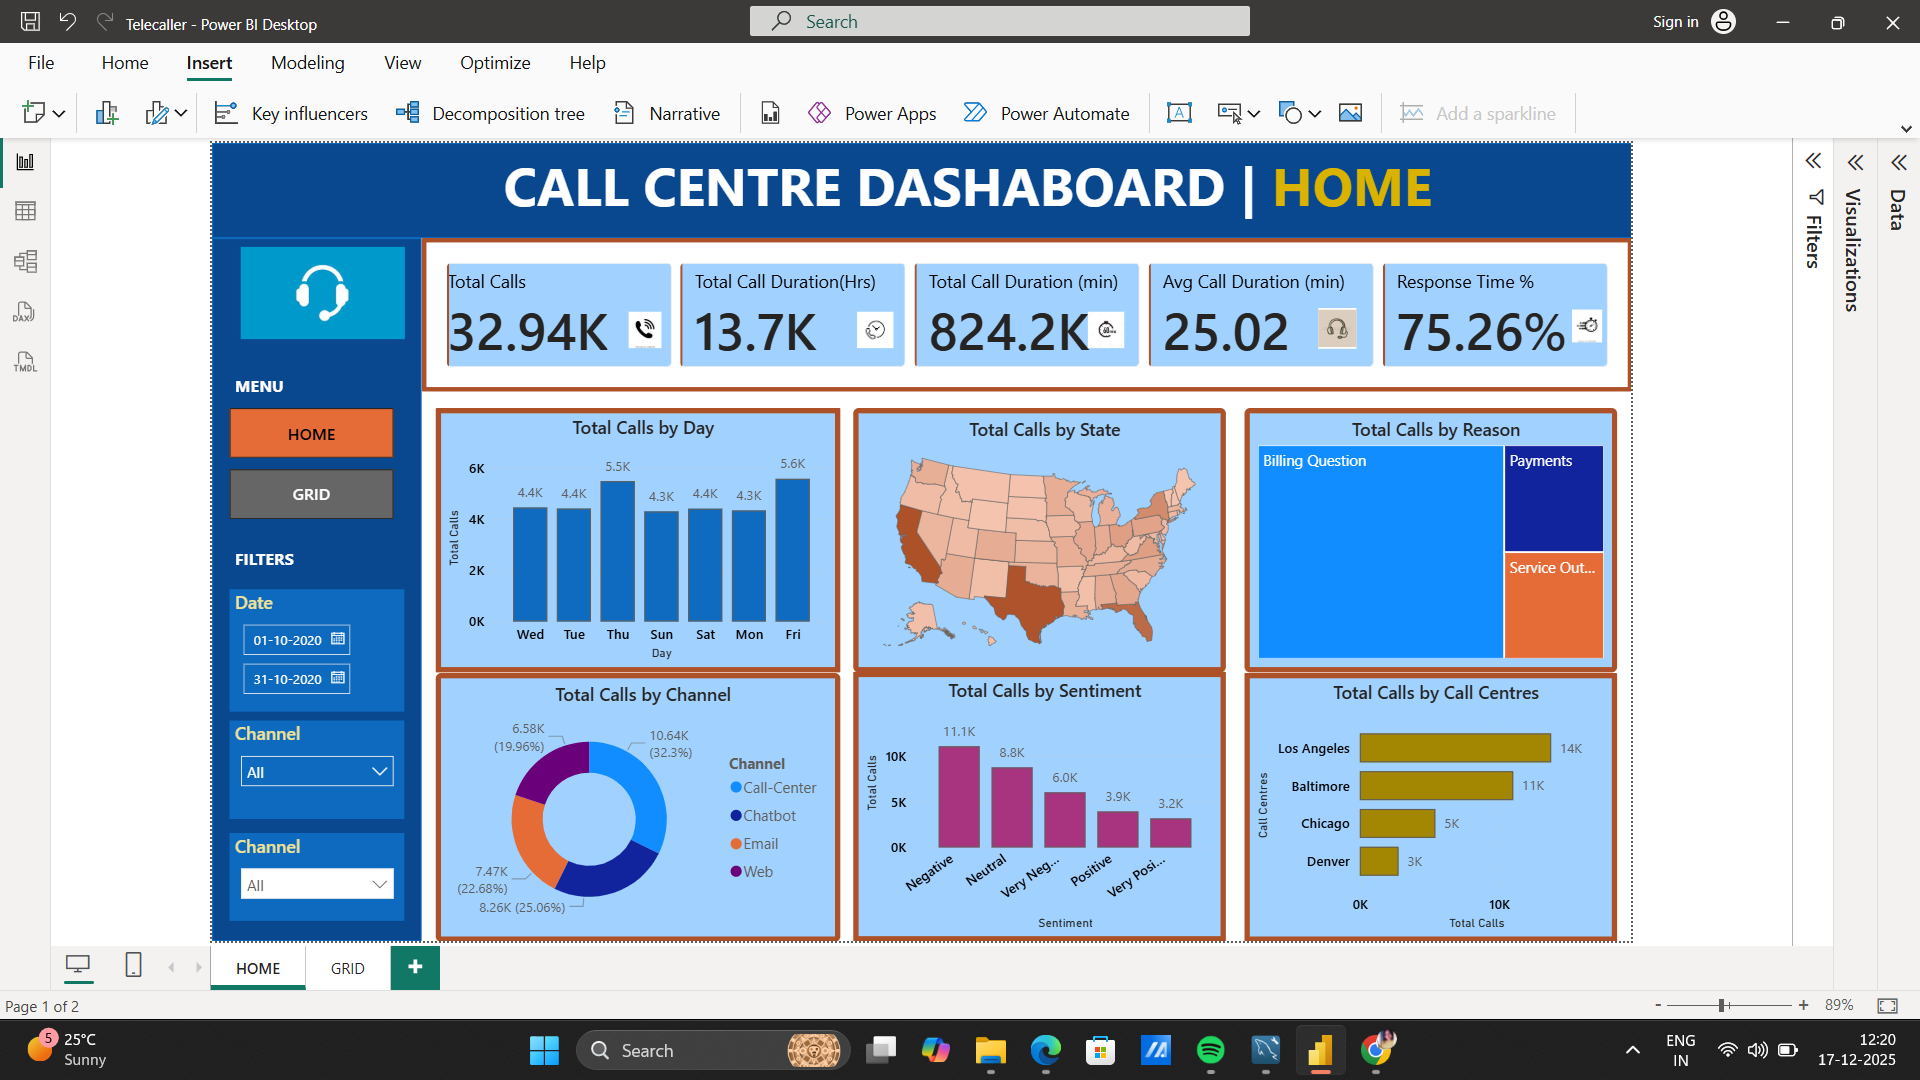

The page's visual inventory and layout, read from the dashboard file:
{"tool":"powerbi","page":{"name":"HOME","canvas":[1280,720],"ordinal":0},"visuals":[{"type":"shape","box":[0,85.7,189.1,634],"z":0},{"type":"shape","box":[0,0,1280.3,85.7],"z":1000},{"type":"cardVisual","fields":{"Data":["Call Center_Call Center.Total Calls","Call Center_Call Center.Total Call Duration(Hrs)","Call Center_Call Center.Total Call Duration (min)","Call Center_Call Center.Avg Call Duration (min)","Call Center_Call Center.Response Time %"]},"box":[189.1,85.7,1091.2,138.8],"z":2000},{"type":"columnChart","fields":{"Category":["Date Table.Day"],"Y":["Call Center_Call Center.Total Calls"]},"box":[201.4,239.5,364.6,238.1],"z":3000},{"type":"textbox","box":[258.5,0,923.8,85.7],"z":4000},{"type":"shapeMap","fields":{"Category":["Call Center_Call Center.State"],"Value":["Call Center_Call Center.Total Calls"]},"box":[578.2,239.5,336.1,238.1],"z":5000},{"type":"treemap","fields":{"Group":["Call Center_Call Center.Reason"],"Values":["Call Center_Call Center.Total Calls"]},"box":[930.6,239.5,336.1,238.1],"z":6000},{"type":"donutChart","fields":{"Category":["Call Center_Call Center.Channel"],"Y":["Call Center_Call Center.Total Calls"]},"box":[201.4,477.6,364.6,242.2],"z":7000},{"type":"columnChart","fields":{"Category":["Call Center_Call Center.Sentiment"],"Y":["Call Center_Call Center.Total Calls"]},"box":[578,477,336,243],"z":8000},{"type":"barChart","fields":{"Category":["Call Center_Call Center.Call-Centres City"],"Y":["Call Center_Call Center.Total Calls"]},"box":[930.6,477.6,336.1,242.2],"z":9000},{"type":"slicer","title":"Date","fields":{"Values":["Date Table.Date"]},"box":[16.3,402.7,157.8,110.2],"z":10000},{"type":"slicer","title":"Channel","fields":{"Values":["Call Center_Call Center.Channel"]},"box":[16.3,521.1,157.8,88.4],"z":11000},{"type":"slicer","title":"Channel","fields":{"Values":["Call Center_Call Center.City"]},"box":[16.3,621.8,157.8,78.9],"z":12000},{"type":"image","box":[302,152.4,176.9,32.7],"z":13000},{"type":"image","box":[537.4,152.4,121.1,32.7],"z":13001},{"type":"image","box":[789.1,152.4,34,32.7],"z":13002},{"type":"image","box":[997.3,148.3,34,36.7],"z":13003},{"type":"image","box":[1225.9,145.6,27.2,39.5],"z":13004},{"type":"image","box":[25.9,85.7,148.3,99.3],"z":13005},{"type":"pageNavigator","box":[16.3,239.5,148.3,100.7],"z":13006},{"type":"textbox","box":[16.3,204.1,63.9,35.4],"z":13007},{"type":"textbox","box":[16.3,359.2,78.9,40.8],"z":13008}]}

Visuals, with their boxes on the page's 1280x720 design canvas (x1, y1, x2, y2). These are canvas units, not pixel positions in the 1920x1080 screenshot, which may show the page scaled, cropped or inside an application window:
shape: bbox=(0, 86, 189, 720)
shape: bbox=(0, 0, 1280, 86)
cardVisual - Call Center_Call Center.Total Calls x Call Center_Call Center.Total Call Duration(Hrs): bbox=(189, 86, 1280, 224)
columnChart - Date Table.Day x Call Center_Call Center.Total Calls: bbox=(201, 240, 566, 478)
textbox: bbox=(258, 0, 1182, 86)
shapeMap - Call Center_Call Center.State x Call Center_Call Center.Total Calls: bbox=(578, 240, 914, 478)
treemap - Call Center_Call Center.Reason x Call Center_Call Center.Total Calls: bbox=(931, 240, 1267, 478)
donutChart - Call Center_Call Center.Channel x Call Center_Call Center.Total Calls: bbox=(201, 478, 566, 720)
columnChart - Call Center_Call Center.Sentiment x Call Center_Call Center.Total Calls: bbox=(578, 477, 914, 720)
barChart - Call Center_Call Center.Call-Centres City x Call Center_Call Center.Total Calls: bbox=(931, 478, 1267, 720)
"Date" slicer: bbox=(16, 403, 174, 513)
"Channel" slicer: bbox=(16, 521, 174, 610)
"Channel" slicer: bbox=(16, 622, 174, 701)
image: bbox=(302, 152, 479, 185)
image: bbox=(537, 152, 658, 185)
image: bbox=(789, 152, 823, 185)
image: bbox=(997, 148, 1031, 185)
image: bbox=(1226, 146, 1253, 185)
image: bbox=(26, 86, 174, 185)
pageNavigator: bbox=(16, 240, 165, 340)
textbox: bbox=(16, 204, 80, 240)
textbox: bbox=(16, 359, 95, 400)
